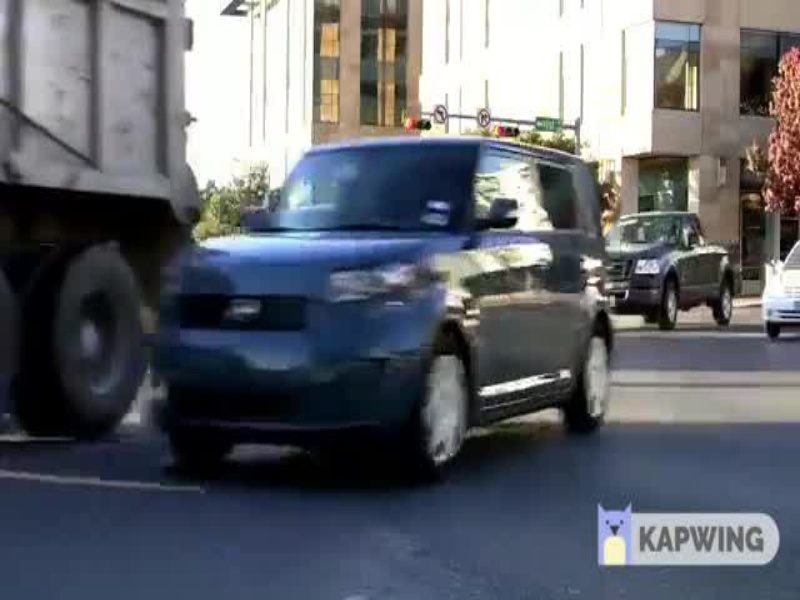car: (158, 128, 622, 478)
